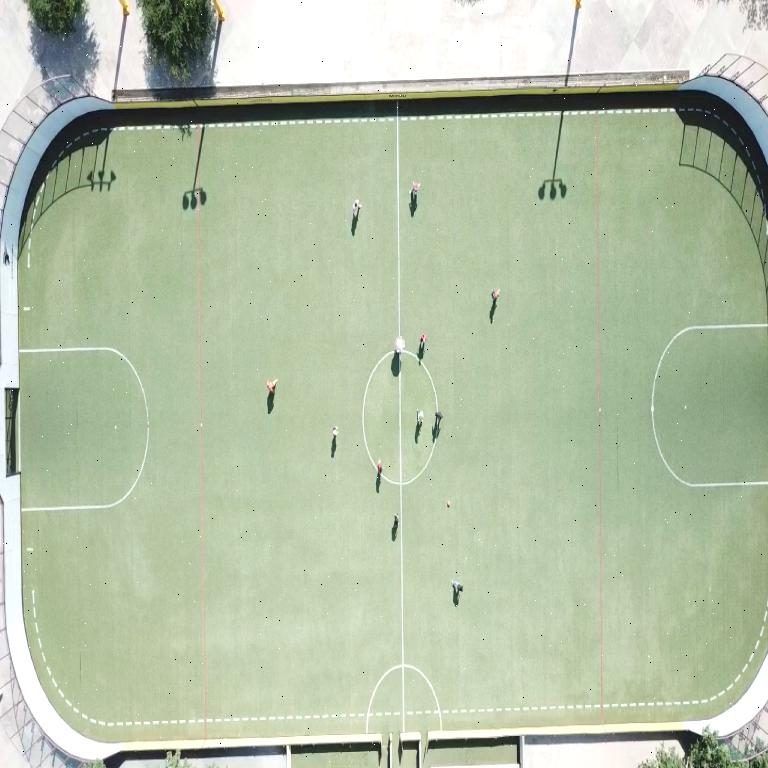AC: (19, 347, 148, 511), (652, 324, 767, 488)
B: (447, 500, 451, 507)
MC: (397, 360, 404, 731)
P: (410, 182, 419, 201), (395, 336, 405, 353), (266, 379, 276, 394), (352, 200, 360, 218), (451, 581, 462, 594), (436, 412, 443, 429), (492, 288, 499, 303), (417, 410, 422, 427), (331, 426, 337, 439), (421, 334, 426, 349), (376, 460, 381, 474), (395, 513, 399, 528)
